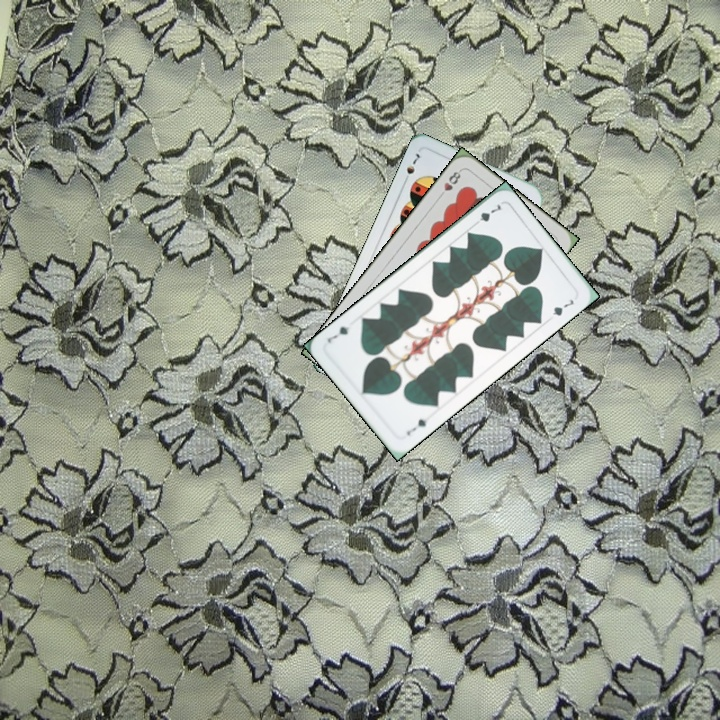G7: (469, 200, 503, 229), (402, 415, 429, 438)
H8: (435, 166, 464, 201)
S7: (400, 149, 422, 186)
